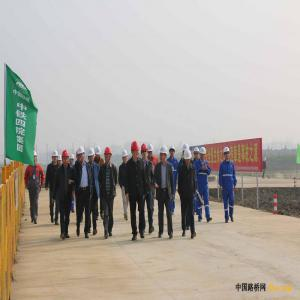red: (132, 142, 142, 159), (62, 150, 70, 167), (105, 147, 113, 164), (142, 144, 149, 159)
white: (88, 148, 96, 164), (161, 147, 169, 163), (78, 147, 86, 162), (185, 151, 193, 166), (96, 146, 103, 160), (122, 150, 129, 164), (52, 151, 59, 164), (148, 145, 155, 158), (200, 148, 207, 161), (224, 148, 231, 161), (170, 146, 176, 158), (58, 155, 63, 166), (70, 155, 75, 166), (195, 148, 200, 159), (34, 152, 38, 165)
